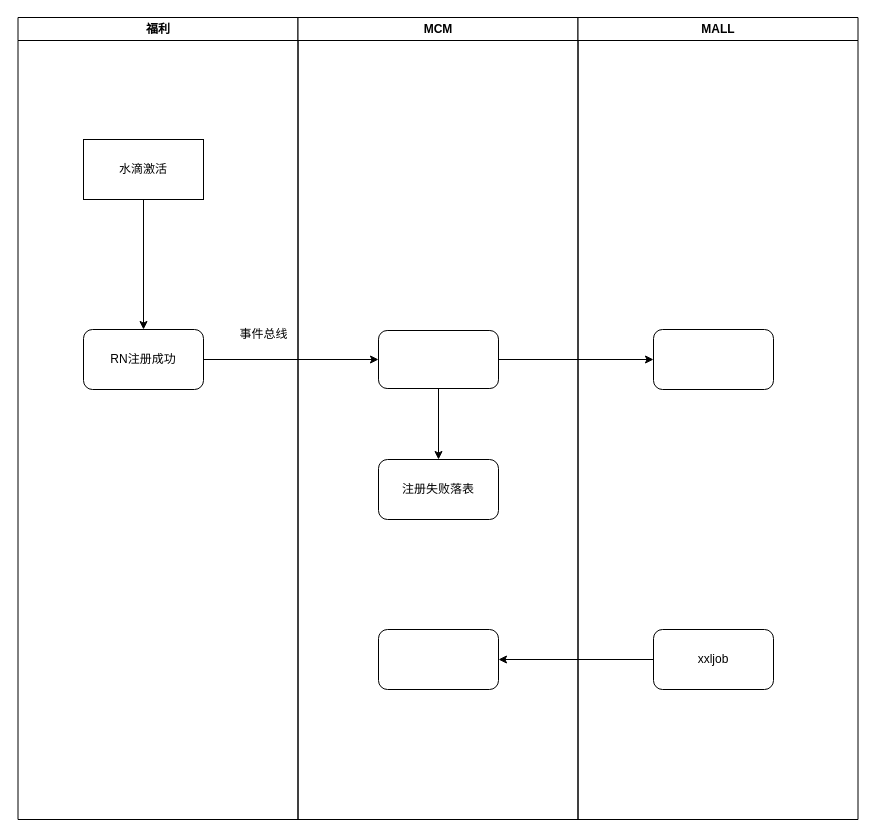
Some shapes in this 875 by 837 pixel diagram are drawn without their labels. The shapes that lost their labels are listed below. From the top down, each one's centre as x and y in pixels, then its label:
At [438,359]: "注册事件处理".
At [713,359]: "注册".
At [438,659]: "补发注册接口".
